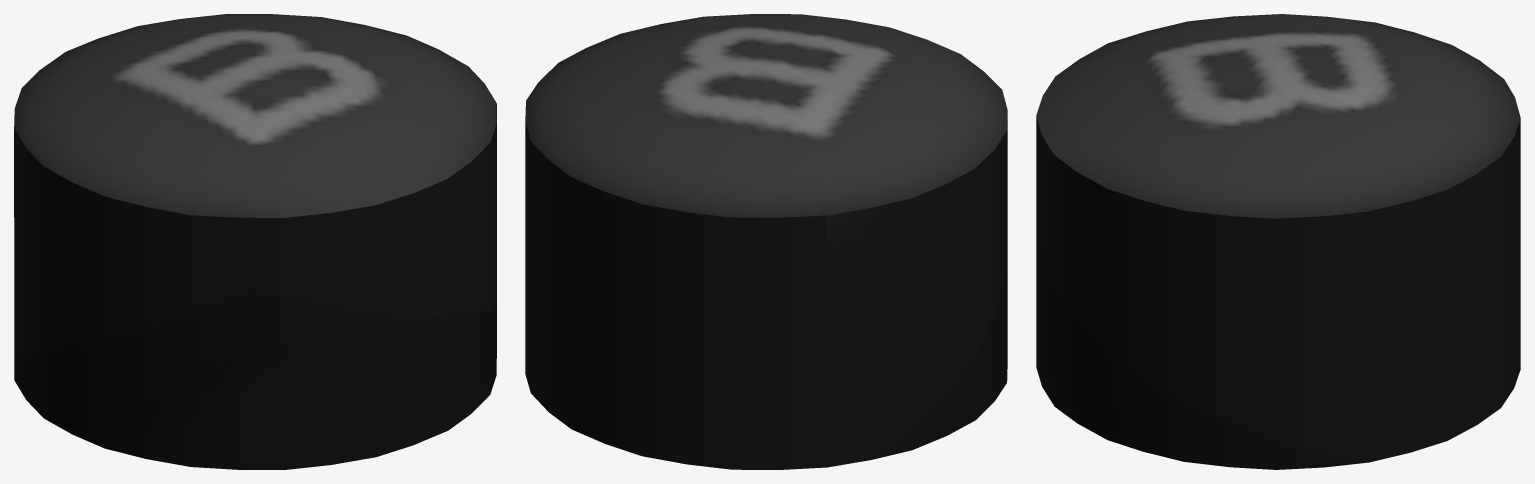
3 views of the same model, side by side, from view 1: azimuth 30°, elevation 25°; view 2: azimuth 150°, elevation 25°; view 3: azimuth 270°, elevation 25° (orthographic).
Parts seen in each view (by area): view 1: RB; view 2: RB; view 3: RB.
Boxes of the visible parts, box(x1,y1,x2,y2) form: RB: box(14, 14, 496, 469); RB: box(525, 14, 1007, 469); RB: box(1036, 14, 1520, 469).
Bounding box in the file's own units: 0.00967 × 0.0066 × 0.00967.
1 material, 1 textured.
